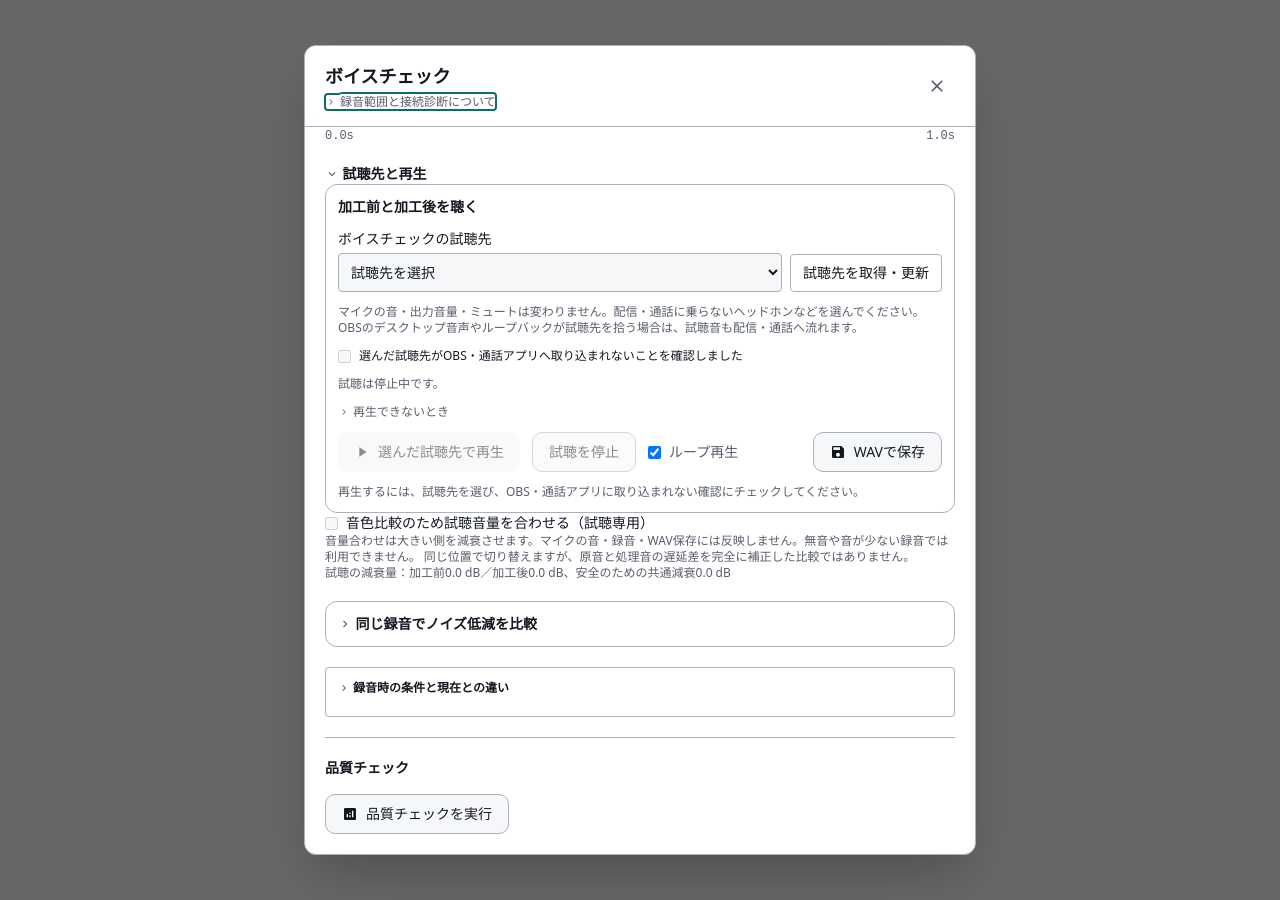
Test: 録音後・録音中の変更と内部VST未照合を折畳み条件欄で区別する
(page scrolled)
Check: the button "試聴先を取得・更新" is enabled, box [790,254,942,292]
Click the heading "録音時の条件と現在との違い" at (431,688), box [353,679,509,696]
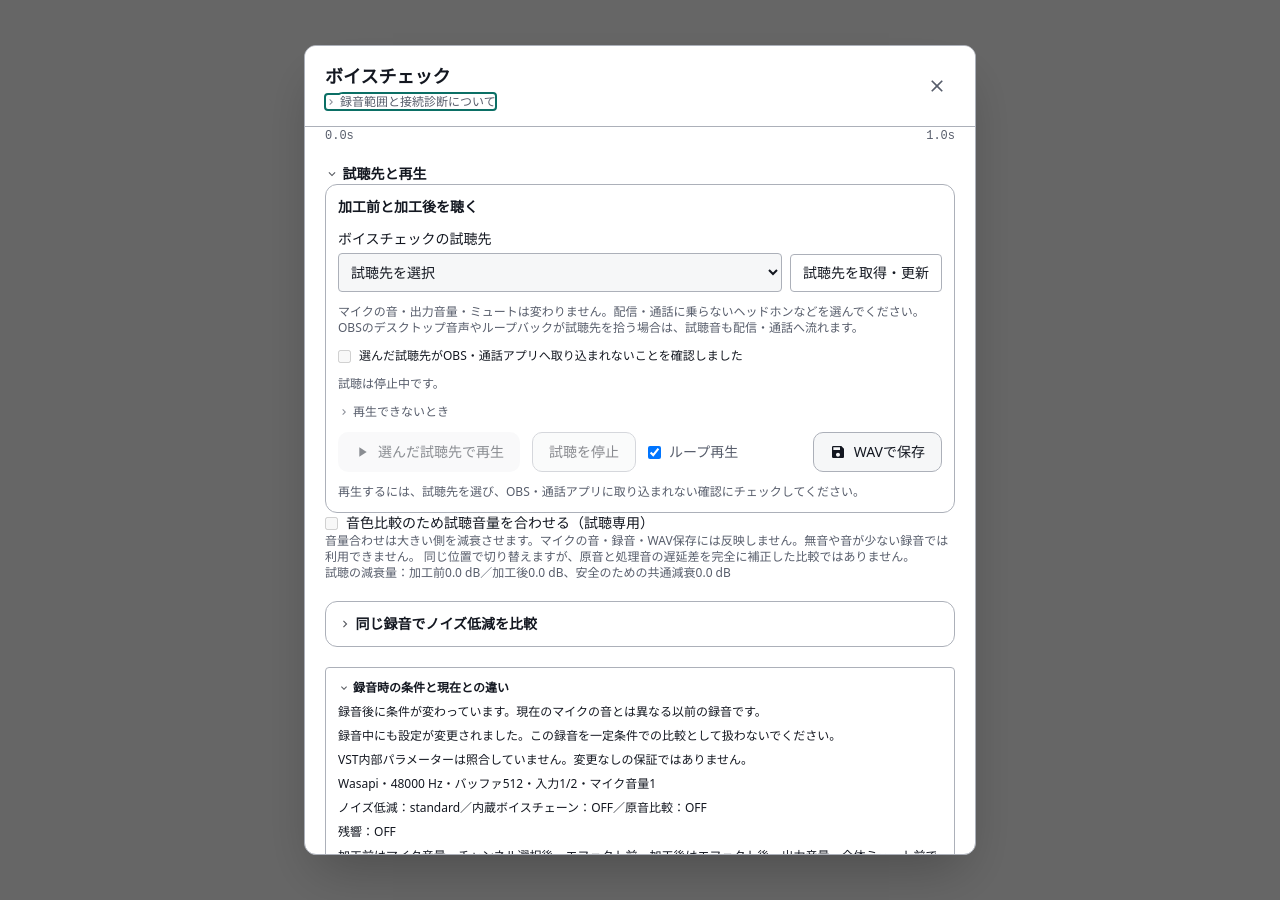
Check: the text "録音後に条件が変わっています。現在のマイクの音とは異なる以前の録音です。" is shown, box [338,703,767,720]
Check: the text "録音中にも設定が変更されました。この録音を一定条件での比較として扱わないでください。" is shown, box [338,727,841,744]
Check: the text "VST内部パラメーターは照合していません。変更なしの保証ではありません。" is shown, box [338,751,753,768]
